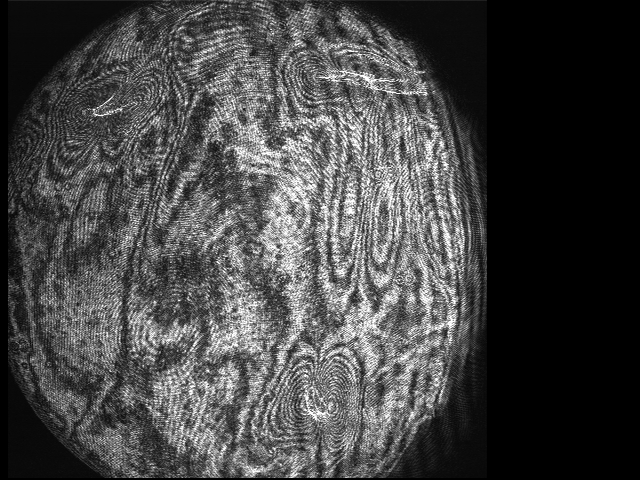plume: (276, 353, 366, 442)
